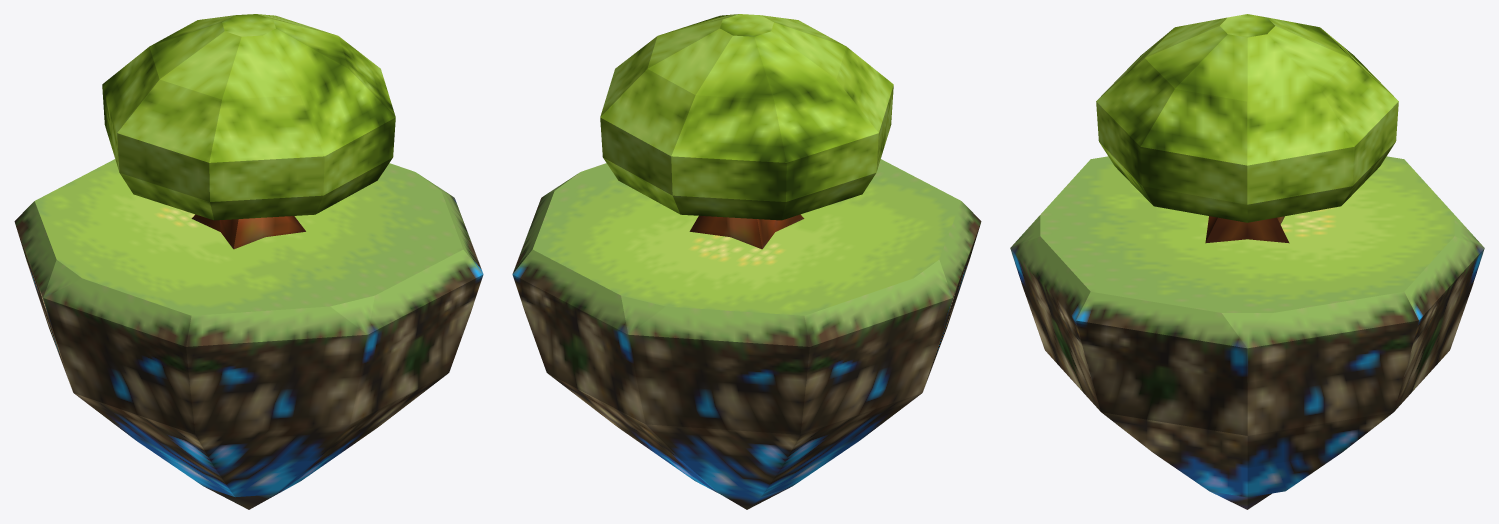
Rendered from Poly_World_Map_Floating_Continent_01_Big_Tree.obj.
3 renders of one model, left to right at view 1: azimuth 30°, elevation 25°; view 2: azimuth 150°, elevation 25°; view 3: azimuth 270°, elevation 25°, orthographic.
Parts seen in each view (by area): view 1: Cube.002_Cube.004, Grid.001, Grid.002; view 2: Cube.002_Cube.004, Grid.001, Grid.002; view 3: Cube.002_Cube.004, Grid.001, Grid.002.
Boxes of the visible parts, <box> form: Cube.002_Cube.004: <box>14,159,483,509</box>; Grid.001: <box>102,14,395,220</box>; Grid.002: <box>191,214,305,249</box>; Cube.002_Cube.004: <box>512,159,981,509</box>; Grid.001: <box>600,14,893,220</box>; Grid.002: <box>689,214,804,249</box>; Cube.002_Cube.004: <box>1010,156,1484,509</box>; Grid.001: <box>1096,14,1398,222</box>; Grid.002: <box>1205,216,1289,243</box>.
Bounding box in the file's own units: 1.8 × 2.03 × 1.8.
Materials: 1 (1 with a texture image).
